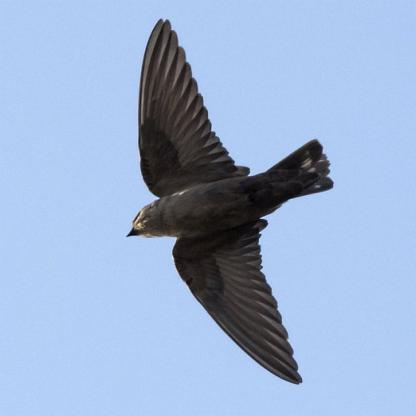Burung: (126, 18, 333, 384)
